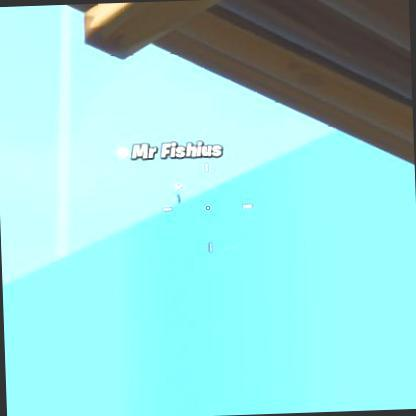person: (173, 192, 184, 208)
